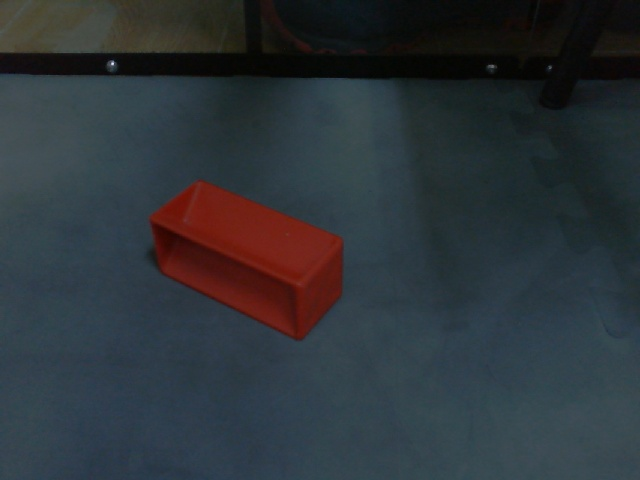RedSample: (148, 177, 346, 344)
